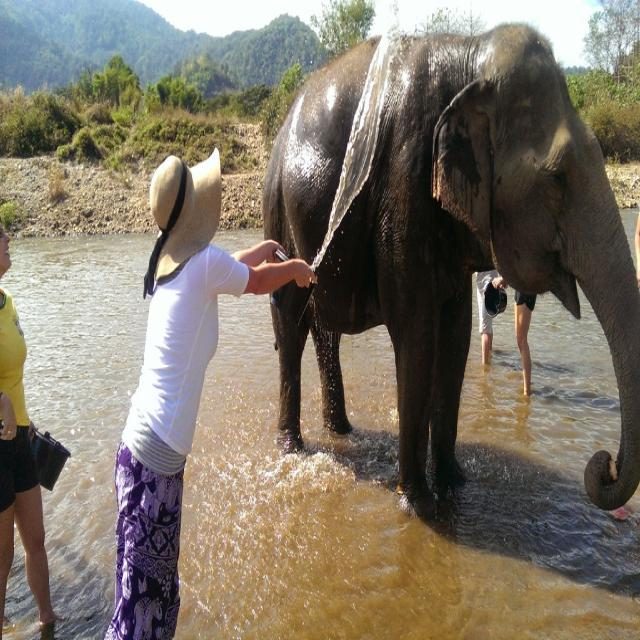Elephant: (262, 21, 639, 521)
person: (103, 147, 318, 639), (0, 218, 61, 638), (476, 268, 508, 364), (514, 288, 536, 397)
